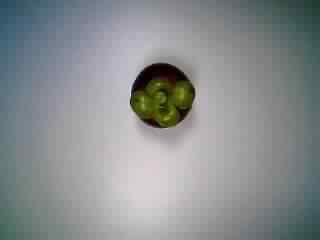mangosteen: (123, 60, 197, 134)
